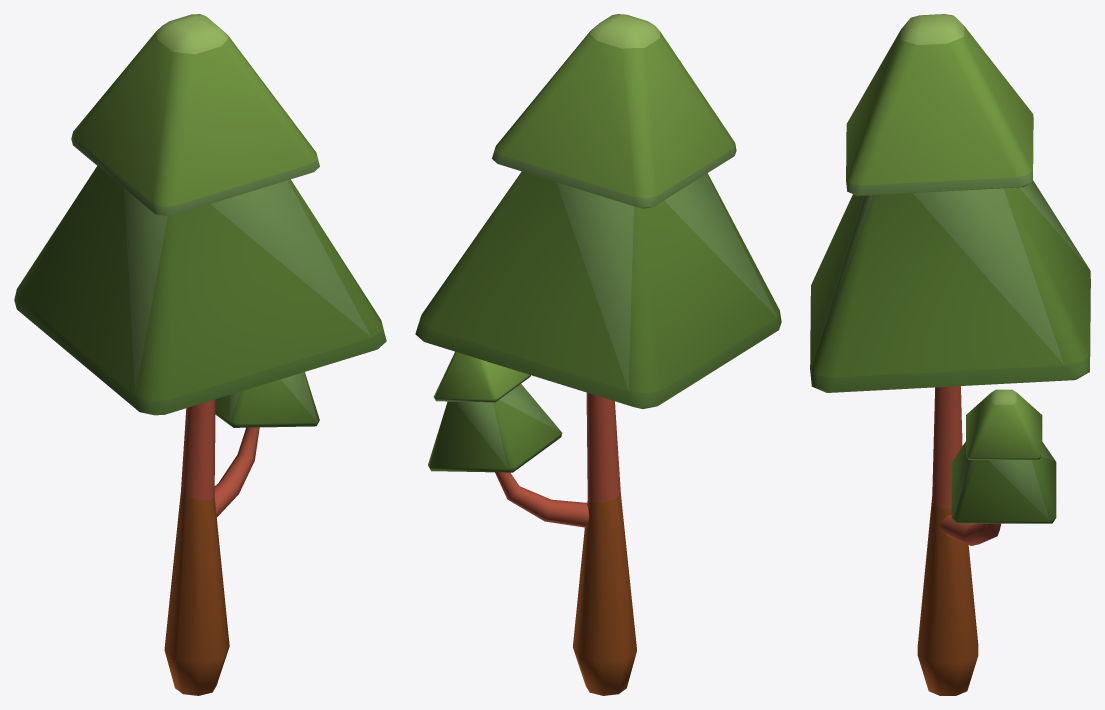
File: itch_kaykit_forest_tree_4_a_color1.glb
The picture shows the model from 3 angles, left to right: view 1: azimuth 30°, elevation 25°; view 2: azimuth 150°, elevation 25°; view 3: azimuth 270°, elevation 25°; orthographic projection.
Visible parts, largest first — view 1: Tree_4_A_Color1; view 2: Tree_4_A_Color1; view 3: Tree_4_A_Color1.
Part boxes in pixels (box(x1,y1,x2,y2)): Tree_4_A_Color1: box(14, 14, 386, 695); Tree_4_A_Color1: box(415, 14, 781, 695); Tree_4_A_Color1: box(810, 14, 1090, 695).
Bounding box in the file's own units: 1.22 × 3.2 × 1.22.
